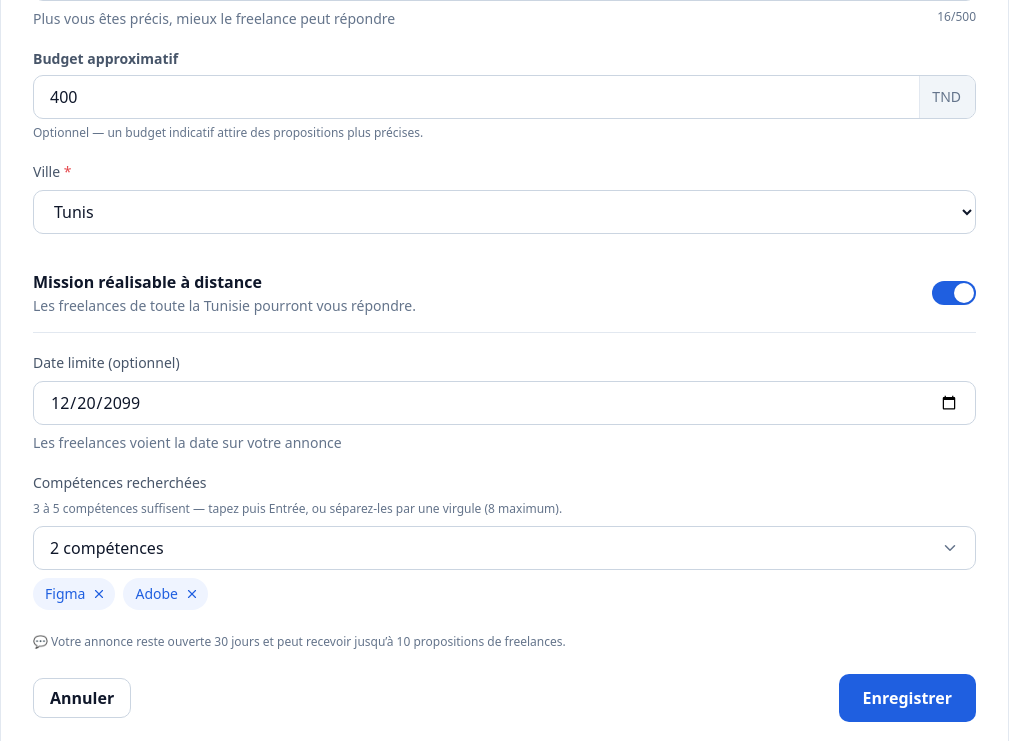
Test case: AnnonceForm — edit mode (PR-3) › a refusal from the server (a proposal arrived meanwhile) shows its message and does not navigate
This screenshot has width=1024, height=741.
(page scrolled)
Click the button "Enregistrer": x=907, y=698 x1=838 y1=674 x2=976 y2=722
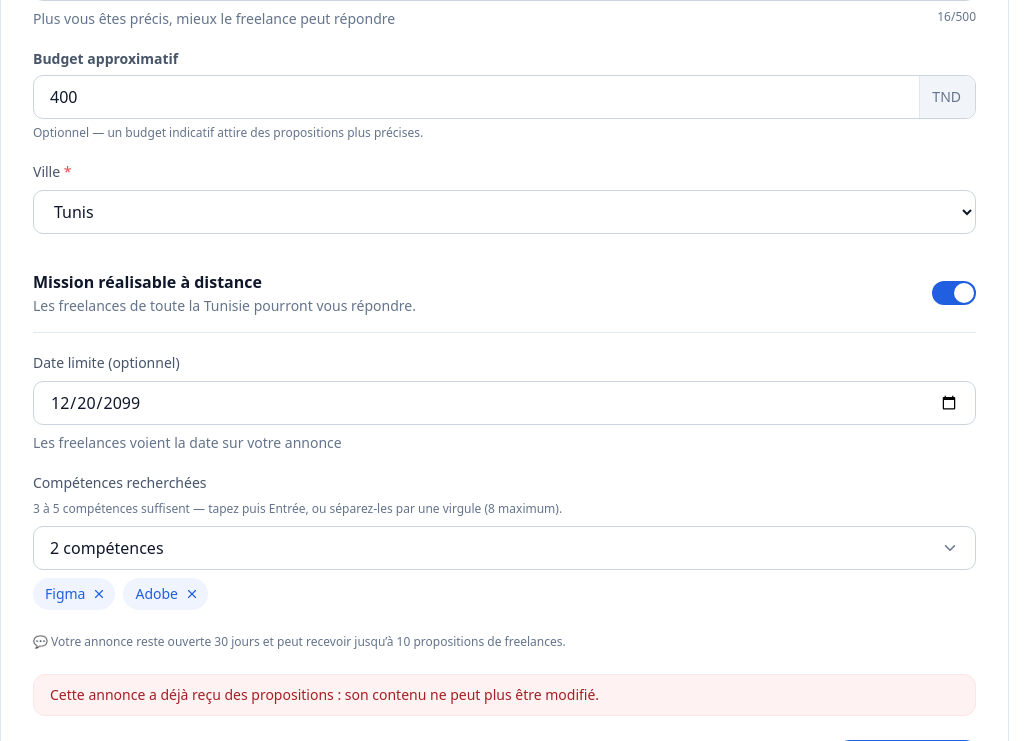
Now the message shows "Cette annonce a déjà reçu des propositions : son contenu ne peut plus être modifié.", box x1=50 y1=685 x2=599 y2=704
